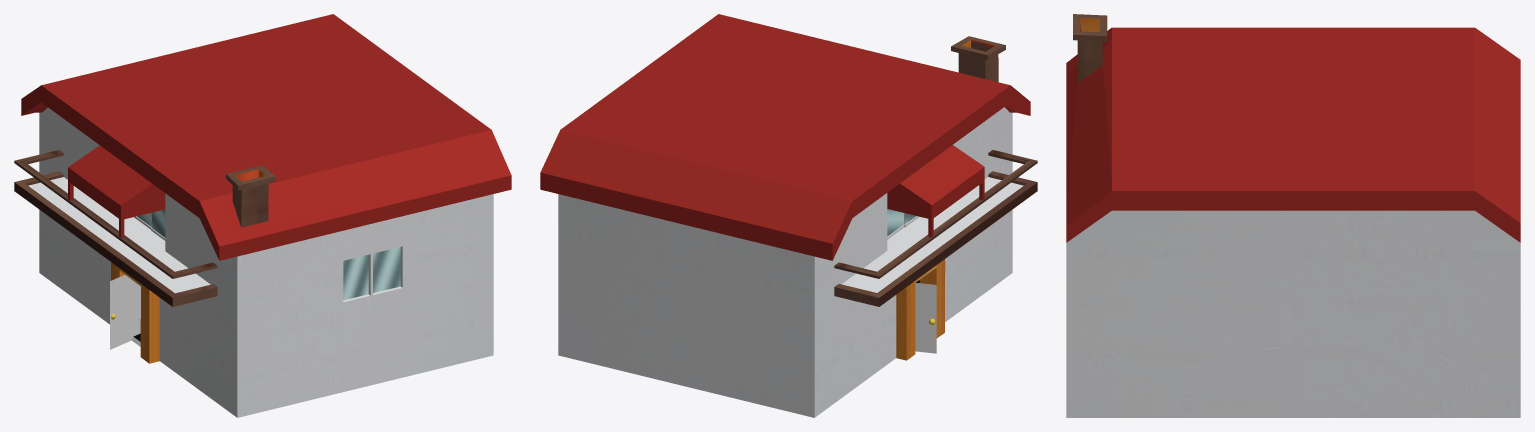
Rendered from Casa1.fbx.
The picture shows the model from 3 angles, left to right: view 1: azimuth 30°, elevation 25°; view 2: azimuth 150°, elevation 25°; view 3: azimuth 270°, elevation 25°; orthographic projection. The views are drawn at different scales.
Parts seen in each view (by area): view 1: Casa 1, Casa 1.003; view 2: Casa 1, Casa 1.003; view 3: Casa 1.
Part boxes in pixels (x1,y1,x2,y2): Casa 1: (14,14,511,417); Casa 1.003: (109,275,140,349); Casa 1: (540,14,1037,417); Casa 1.003: (915,282,936,353); Casa 1: (1066,14,1520,417).
Size of the model in its own units: 5380 by 3696 by 5784.
Materials: 10 (7 with a texture image).
